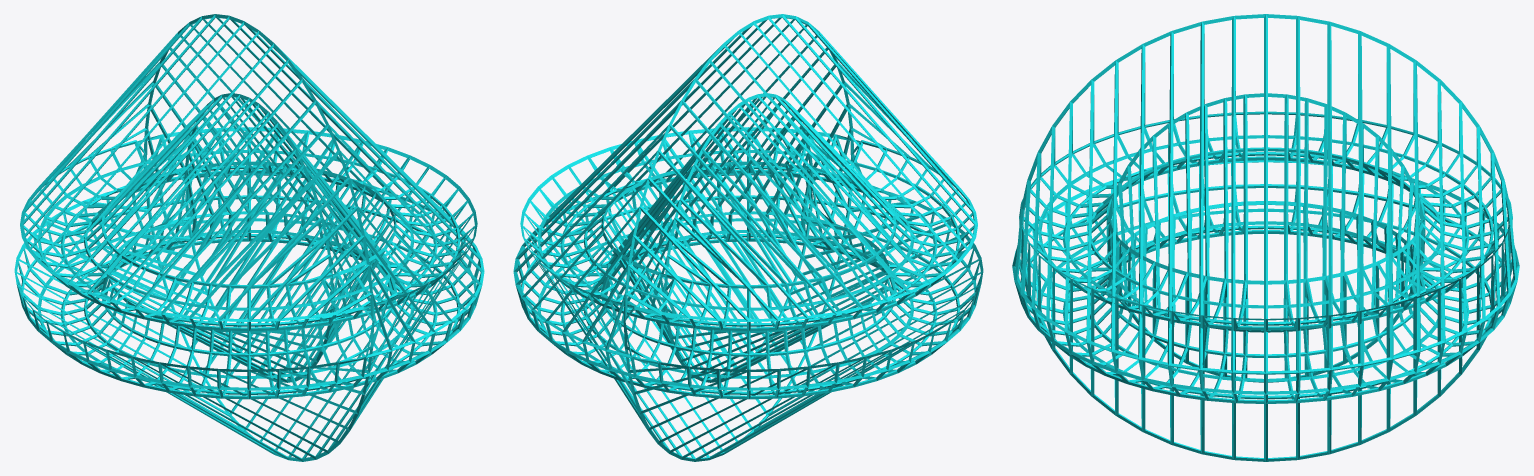
File: 2_Abstract2.glb
The picture shows the model from 3 angles, left to right: view 1: azimuth 30°, elevation 25°; view 2: azimuth 150°, elevation 25°; view 3: azimuth 270°, elevation 25°; orthographic projection. The views are drawn at different scales.
Visible parts, largest first — view 1: Torus; view 2: Torus; view 3: Torus.
Part boxes in pixels (bbox=[...]): Torus: bbox=[14, 14, 484, 461]; Torus: bbox=[513, 14, 983, 461]; Torus: bbox=[1012, 14, 1519, 461].
Bounding box in the file's own units: 2.52 × 2.45 × 2.52.
